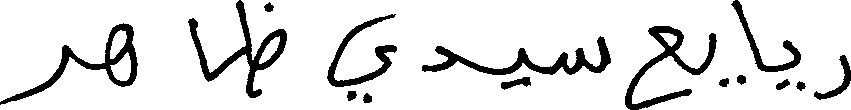ا: (729, 0, 764, 76), (185, 15, 208, 82)
د: (421, 44, 456, 72)
ر: (0, 43, 68, 105), (815, 52, 849, 100)
س: (558, 34, 607, 75)
ظ: (234, 0, 286, 99)
ع: (624, 23, 684, 107)
ه: (104, 21, 138, 88)
ي: (324, 12, 396, 104), (702, 31, 746, 91), (781, 37, 803, 90), (515, 46, 528, 87)
